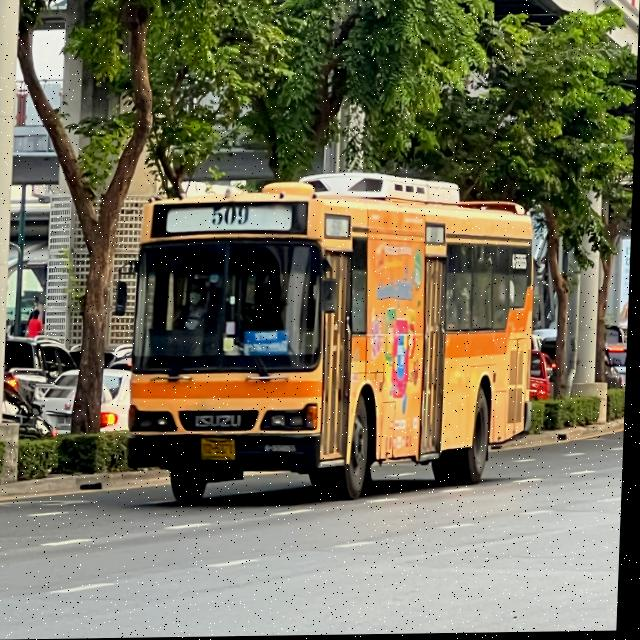BMTA-bus: (120, 167, 547, 514)
Bus Line Number: (204, 200, 262, 231)
Bus Side Number: (265, 440, 304, 459)
Destination Sign: (247, 331, 292, 355)
